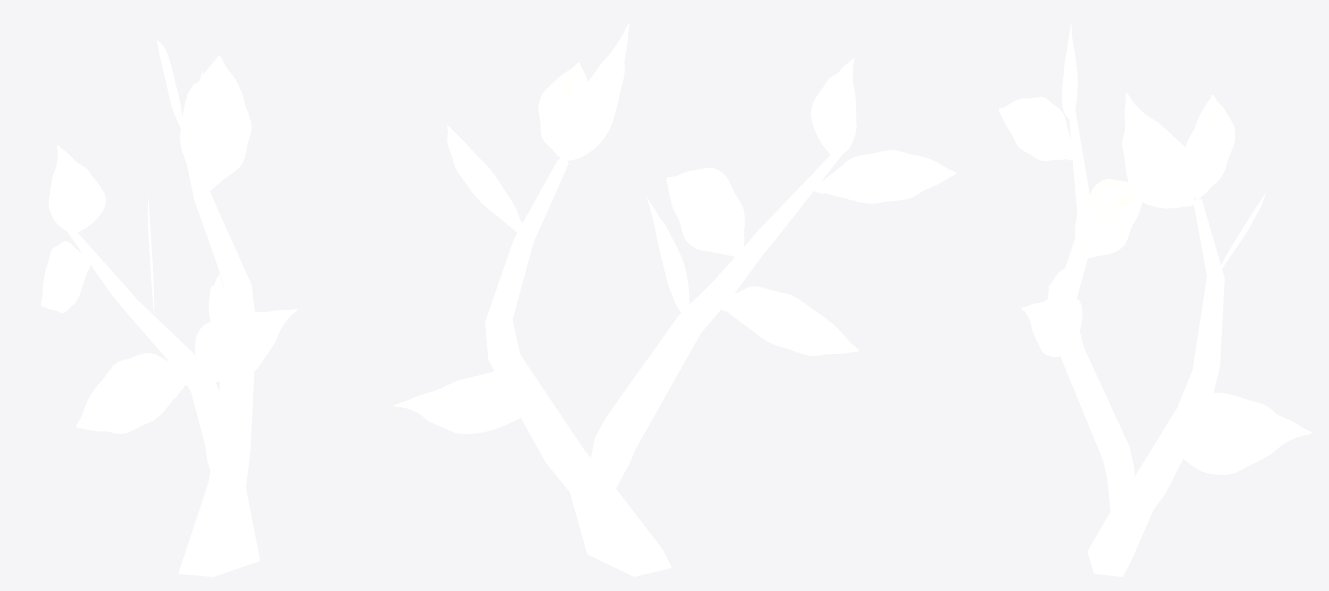
3 views of the same model, side by side, from view 1: azimuth 30°, elevation 25°; view 2: azimuth 150°, elevation 25°; view 3: azimuth 270°, elevation 25° (orthographic). The views are drawn at different scales.
Parts seen in each view (by area): view 1: SM_Berry_Bush_01v2_LOD0; view 2: SM_Berry_Bush_01v2_LOD0; view 3: SM_Berry_Bush_01v2_LOD0.
Part boxes in pixels (bbox=[...]): SM_Berry_Bush_01v2_LOD0: bbox=[41, 39, 297, 576]; SM_Berry_Bush_01v2_LOD0: bbox=[393, 23, 956, 576]; SM_Berry_Bush_01v2_LOD0: bbox=[998, 22, 1311, 576].
Bounding box in the file's own units: 0.4994 × 0.6532 × 0.3898.
1 material, 1 textured.
